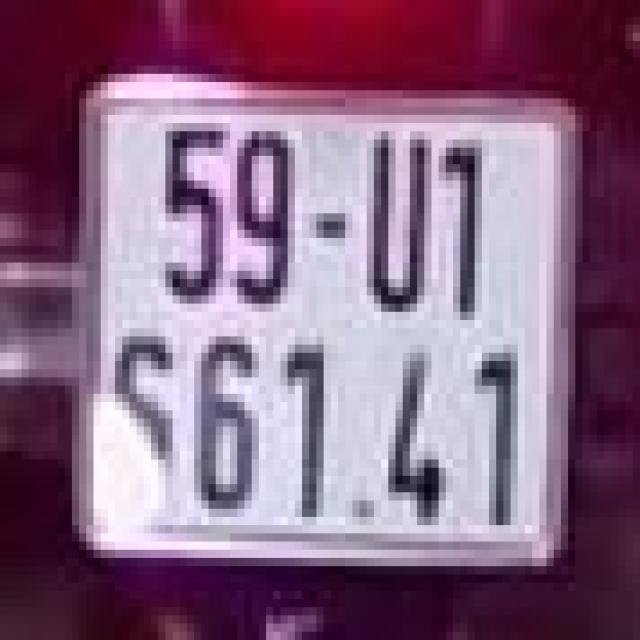1: (464, 336, 528, 542), (273, 324, 338, 521), (435, 123, 500, 320)
4: (381, 332, 446, 538)
5: (154, 123, 233, 312)
6: (93, 316, 180, 521), (194, 316, 259, 521)
9: (233, 119, 306, 316)
U: (359, 115, 432, 328)
